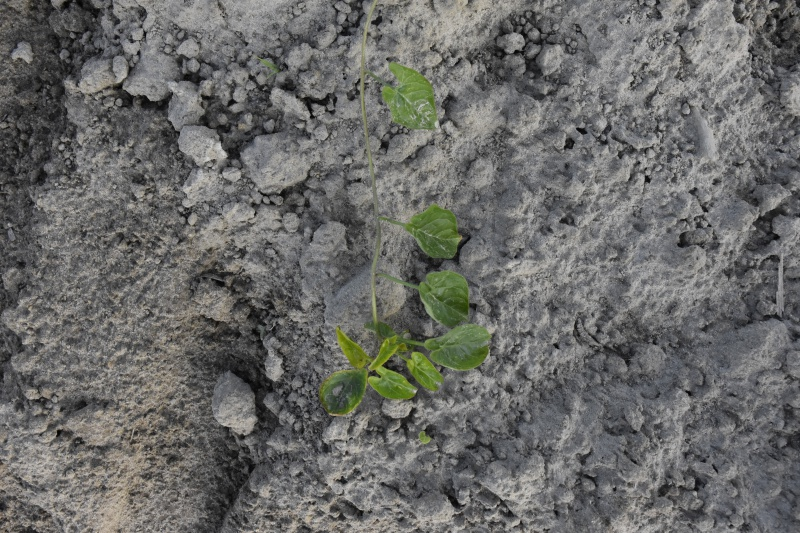field bindweed: (323, 1, 491, 414)
